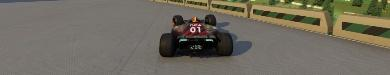Car: (158, 14, 233, 57)
Tree: (366, 0, 382, 16), (351, 0, 363, 6)
curve: (0, 0, 389, 74)
obstacles-Borders: (249, 3, 331, 34), (332, 13, 389, 52)
